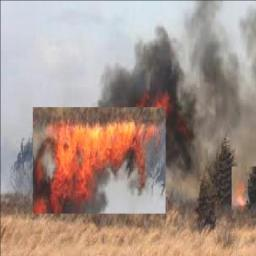Heavy smoke: (37, 2, 256, 218)
Large fire: (25, 106, 168, 214)
